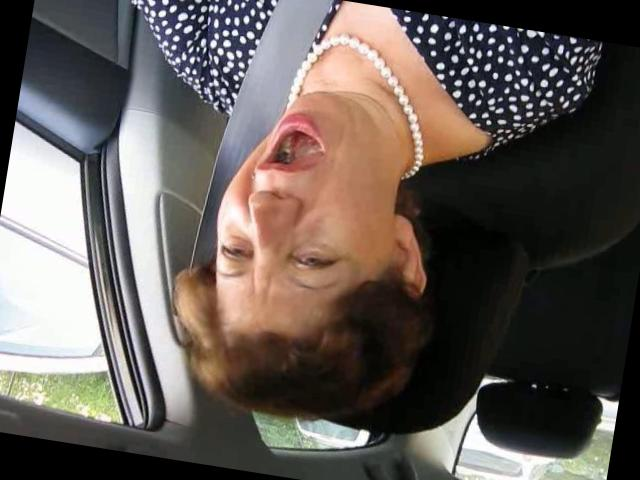eye_open: (286, 245, 342, 280), (216, 238, 253, 266)
face: (198, 74, 395, 319)
mouth_open: (251, 109, 333, 186)
